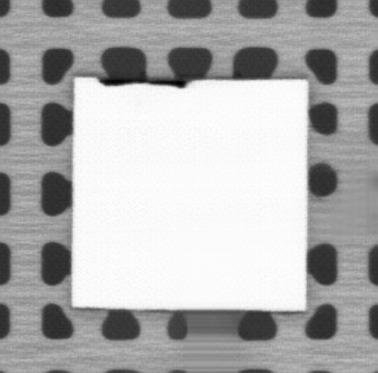DIE_BROKEN: (98, 74, 189, 89)
